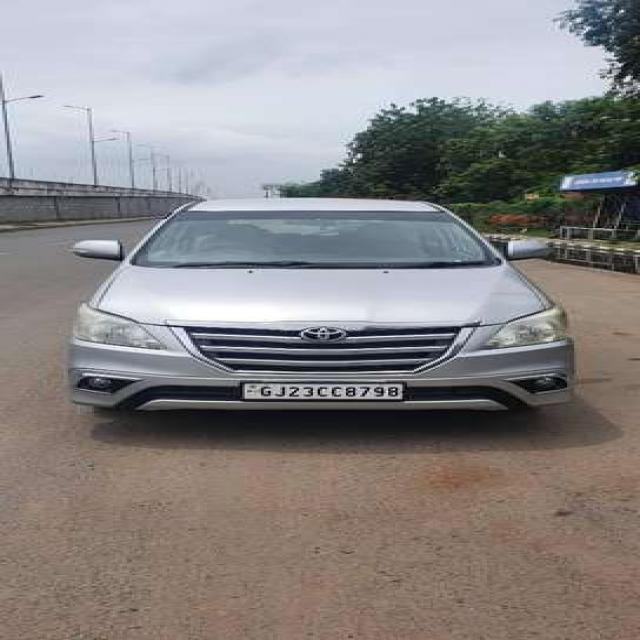Plate: (239, 383, 403, 402)
